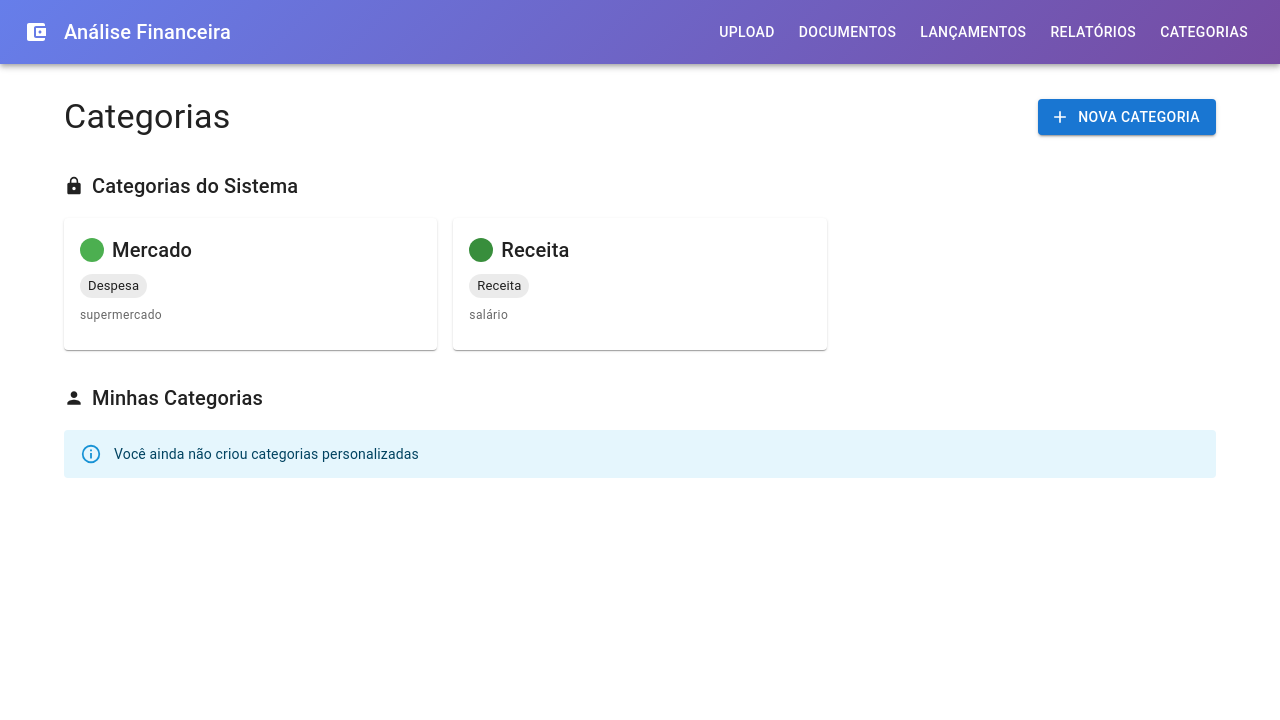
Test case: CategoriasPage › should open create dialog when clicking Nova Categoria
This screenshot has width=1280, height=720.
Click the button "Nova Categoria". click: (1127, 117)
box: [1038,99,1216,135]
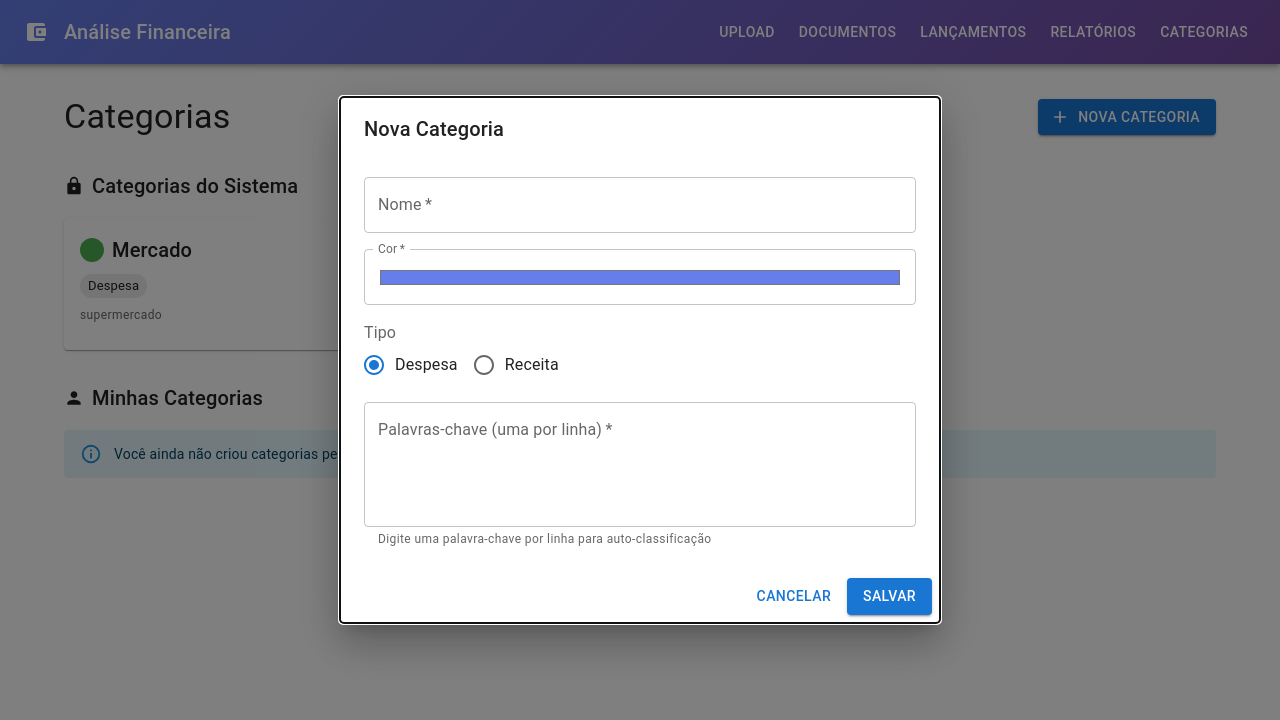
Now the field labelled "Nome *" is shown, box [364,177,916,233]
